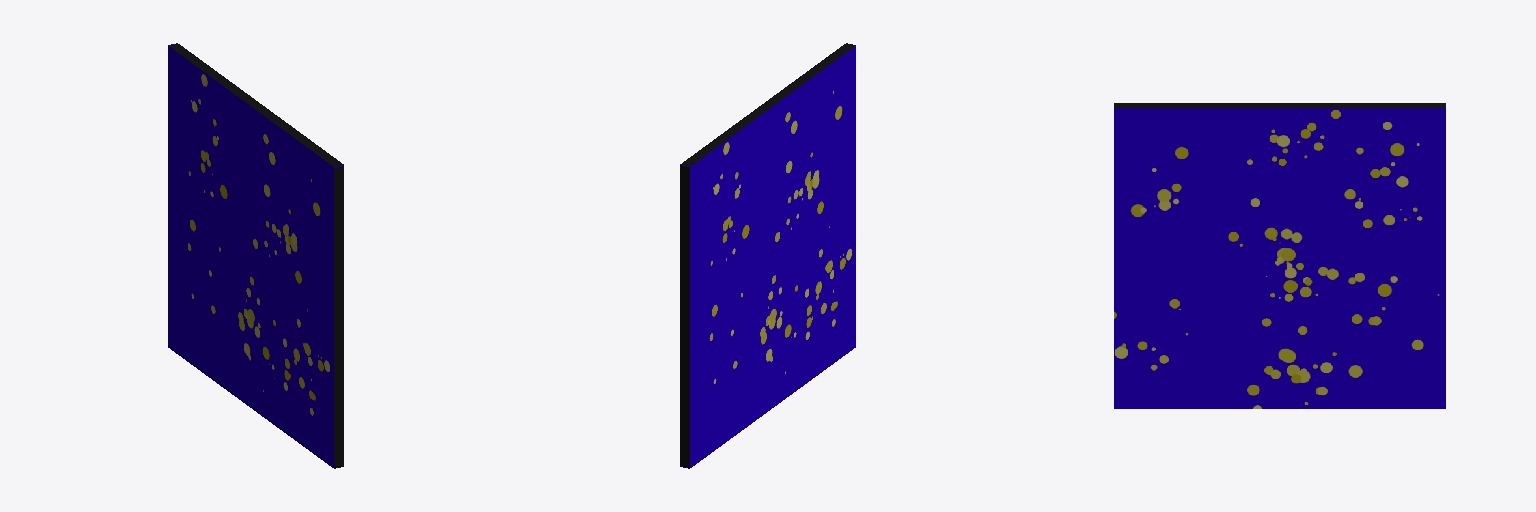
3 renders of one model, left to right at view 1: azimuth 30°, elevation 25°; view 2: azimuth 150°, elevation 25°; view 3: azimuth 270°, elevation 25°, orthographic.
Visible parts, largest first — view 1: 平面; view 2: 平面; view 3: 平面.
Boxes of the visible parts, <box> form: 平面: <box>168,43,343,468</box>; 平面: <box>680,43,855,468</box>; 平面: <box>1114,103,1445,408</box>.
Size of the model in its own units: 0.3464 by 10 by 10.
Materials: 1 (1 with a texture image).